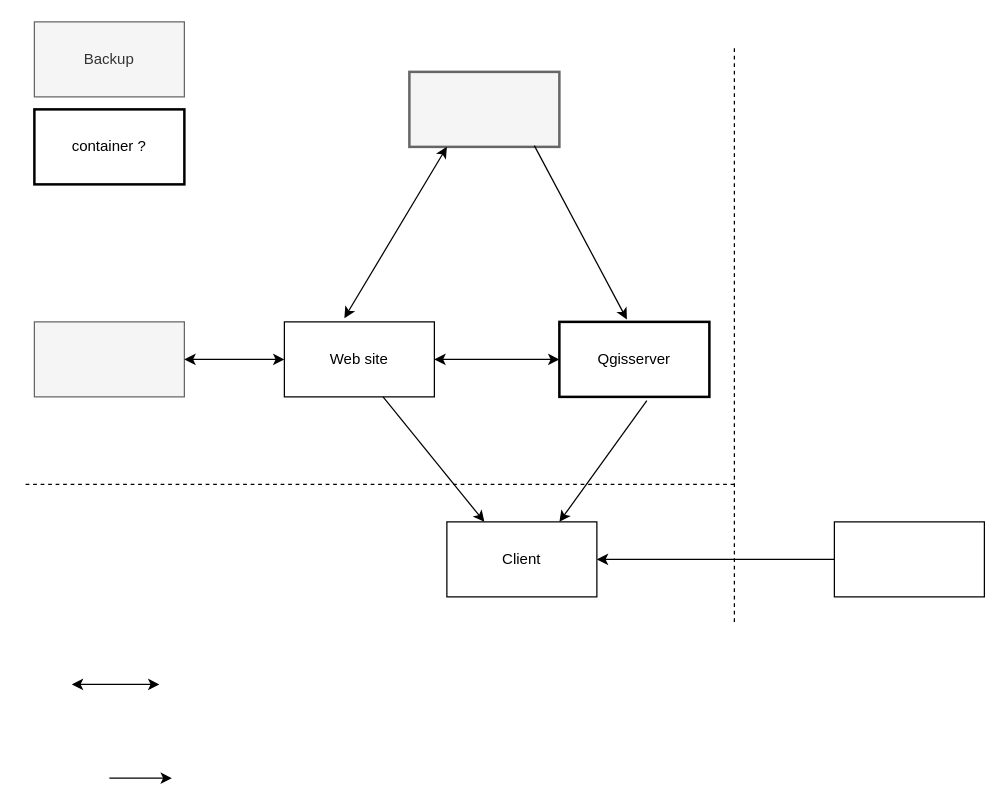
Image size: 1006x810. Some labels were removed from this diagram. Each missing label, with the centre of its shape:
BD PostGis: point (484, 109)
datas: point (108, 359)
Other geoservers: point (908, 559)
